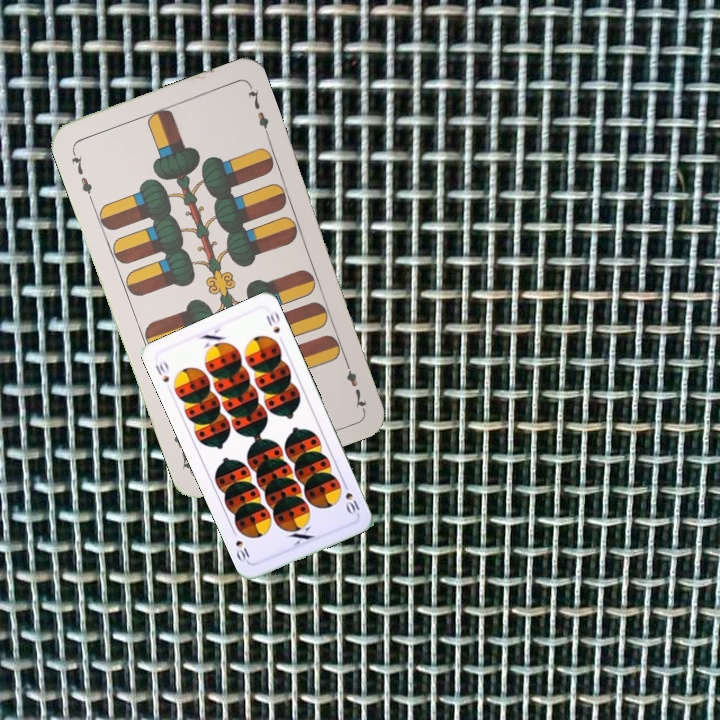E7: (340, 354, 369, 412), (67, 145, 95, 203)
S10: (339, 478, 362, 517), (151, 357, 172, 385)
